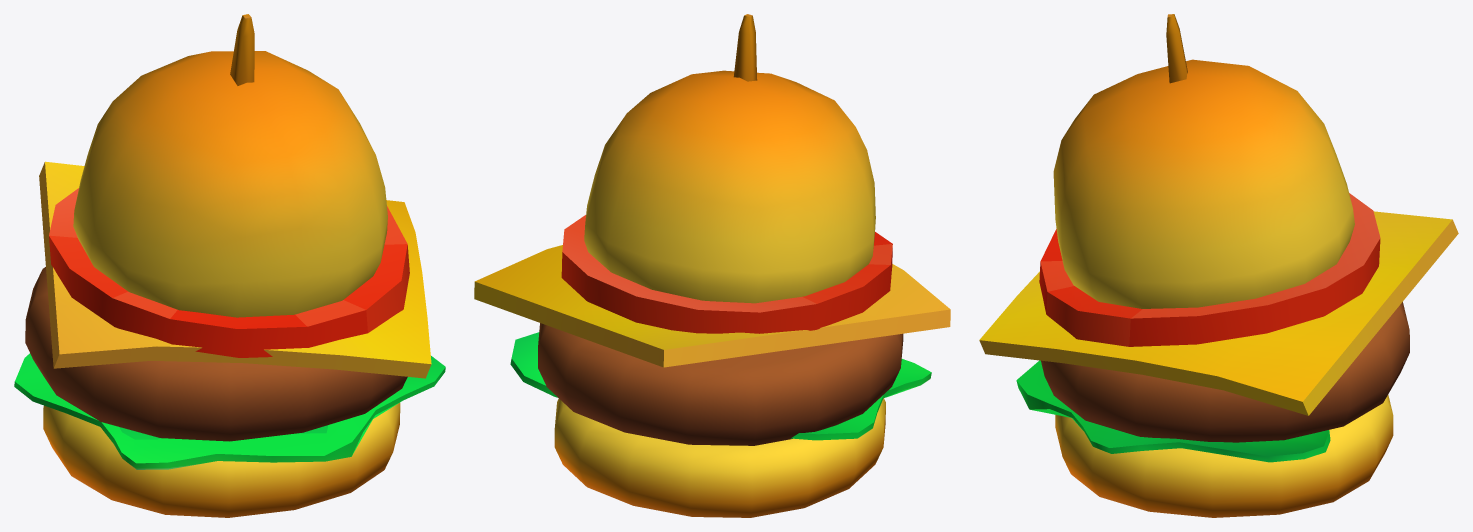
The model's file is hat_burger.glb.
The picture shows the model from 3 angles, left to right: view 1: azimuth 30°, elevation 25°; view 2: azimuth 150°, elevation 25°; view 3: azimuth 270°, elevation 25°; orthographic projection. The views are drawn at different scales.
Visible parts, largest first — view 1: hat_burger; view 2: hat_burger; view 3: hat_burger.
Part boxes in pixels (x1,y1,x2,y2): hat_burger: [14, 14, 445, 517]; hat_burger: [474, 14, 950, 517]; hat_burger: [979, 14, 1458, 517].
Bounding box in the file's own units: 0.6578 × 0.6696 × 0.6582.
Materials: 1 (1 with a texture image).
